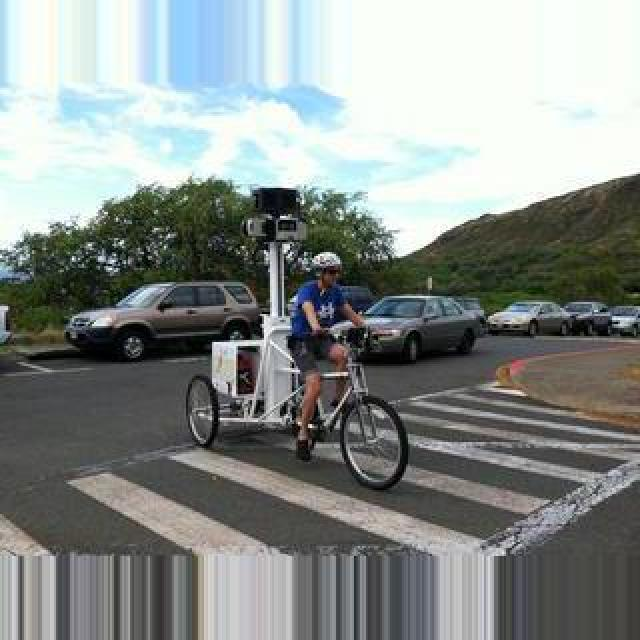Bus-Bike: (66, 282, 264, 362), (352, 296, 482, 362), (488, 302, 572, 336), (334, 284, 372, 312), (454, 300, 488, 330)
MC-Bike: (288, 252, 370, 456)
Person: (186, 316, 410, 490)
